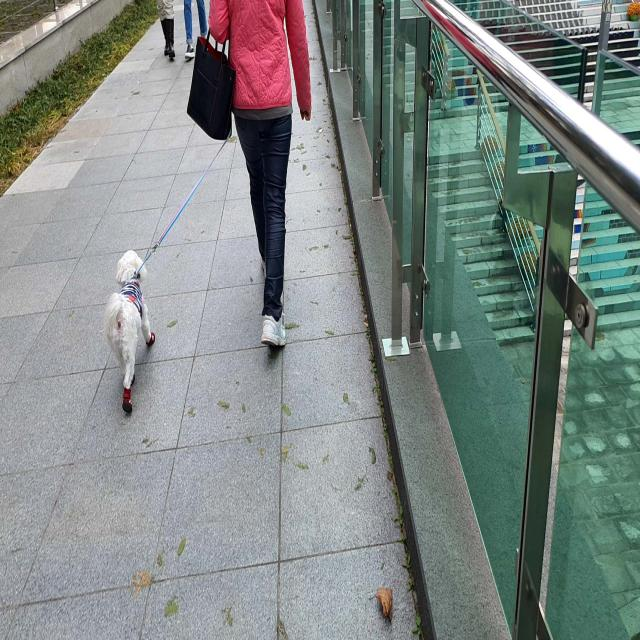Leashed_Dog: (100, 96, 277, 417)
